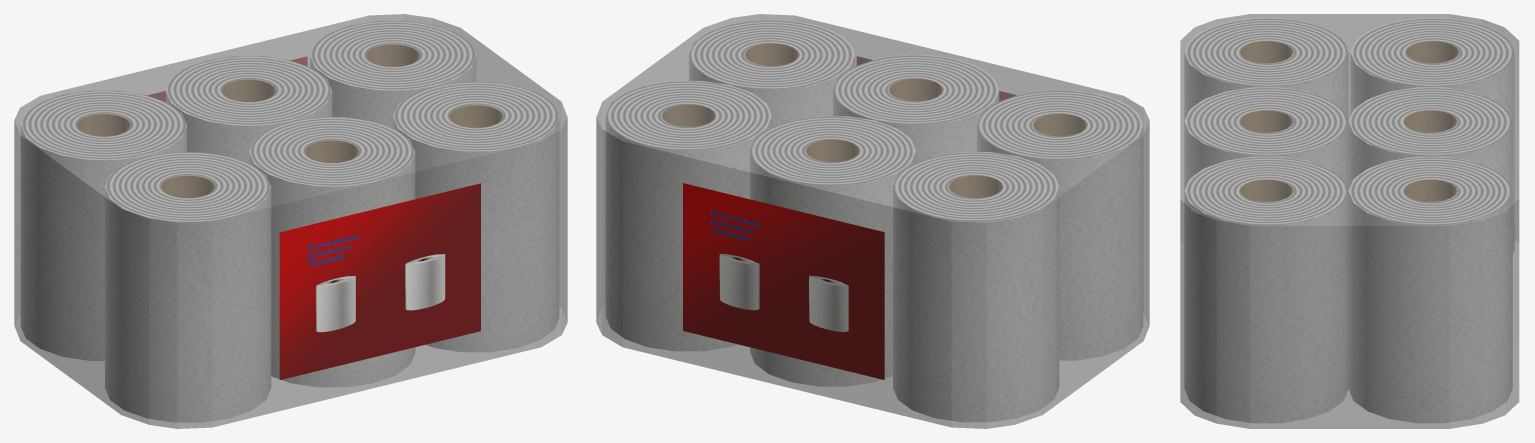
File: BulkKitchenTowel.fbx
3 views of the same model, side by side, from view 1: azimuth 30°, elevation 25°; view 2: azimuth 150°, elevation 25°; view 3: azimuth 270°, elevation 25° (orthographic).
Visible parts, largest first — view 1: Container, Paper002, Tag, Paper001, Paper006, Paper, Paper003, Paper004, Roll003, Roll002, Roll, Roll001 (+2 smaller); view 2: Container, Paper006, Tag001, Paper004, Paper002, Paper003, Paper, Paper001, Roll, Roll001, Roll002, Roll003 (+2 smaller); view 3: Container, Paper001, Paper004, Paper006, Paper, Paper002, Paper003, Roll001, Roll004, Roll, Roll003, Roll002 (+1 smaller).
Boxes of the visible parts, box(x1,y1,x2,y2) form: Container: box(14, 14, 567, 428); Paper002: box(105, 152, 271, 422); Tag: box(279, 183, 480, 379); Paper001: box(393, 82, 559, 352); Paper006: box(20, 90, 186, 360); Paper: box(249, 117, 415, 387); Paper003: box(166, 56, 332, 162); Paper004: box(310, 21, 476, 127); Roll003: box(221, 79, 276, 102); Roll002: box(160, 175, 215, 198); Roll: box(304, 140, 359, 163); Roll001: box(448, 105, 503, 128); Container: box(596, 14, 1149, 428); Paper006: box(893, 152, 1059, 422); Tag001: box(683, 183, 884, 379); Paper004: box(605, 81, 771, 351); Paper002: box(977, 90, 1143, 360); Paper003: box(750, 116, 916, 386); Paper: box(833, 55, 999, 162); Paper001: box(689, 20, 855, 126); Roll: box(888, 78, 943, 101); Roll001: box(744, 43, 799, 66); Roll002: box(1032, 113, 1087, 136); Roll003: box(805, 139, 860, 162); Container: box(1180, 14, 1519, 428); Paper001: box(1184, 156, 1348, 423); Paper004: box(1348, 156, 1512, 423); Paper006: box(1350, 18, 1514, 253); Paper: box(1184, 87, 1348, 190); Paper002: box(1184, 18, 1348, 120); Paper003: box(1348, 87, 1512, 189); Roll001: box(1239, 179, 1293, 202); Roll004: box(1403, 179, 1457, 202); Roll: box(1239, 110, 1293, 132); Roll003: box(1403, 110, 1457, 132); Roll002: box(1239, 41, 1293, 63).
Bounding box in the file's own units: 91.68 × 41 × 62.58.
Materials: 4 (3 with a texture image).
